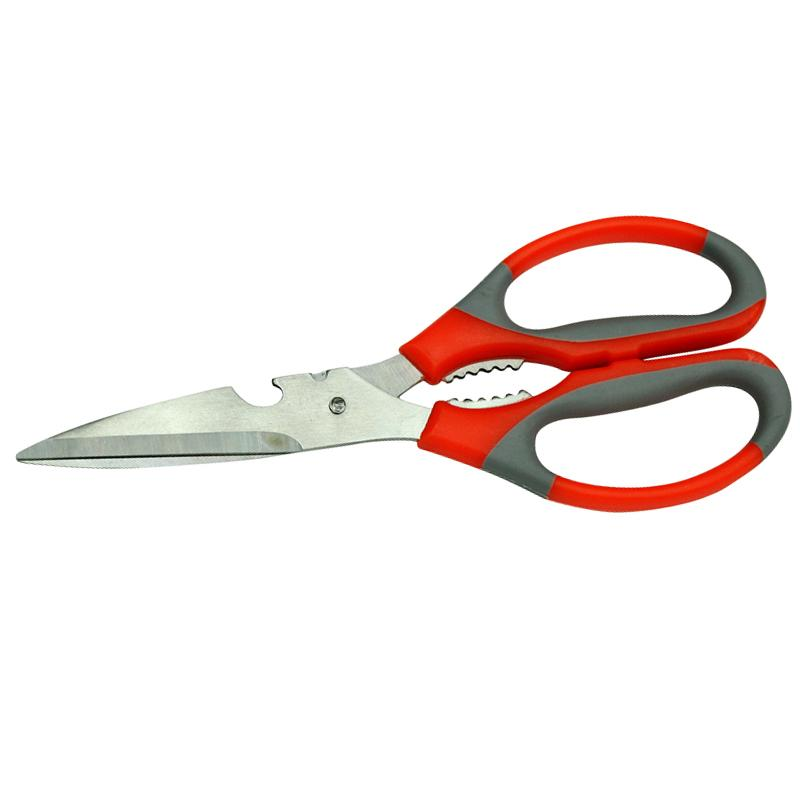scissor: (75, 242, 791, 529)
